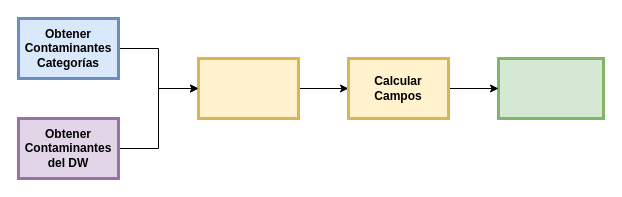
Image size: 622x197. Some labels were removed from this diagram. The centre of each missing label's shape, as x and y in pixels:
"Almacenar en DW" belongs at [550,88].
"Consolidar Contaminantes" belongs at [248,88].
